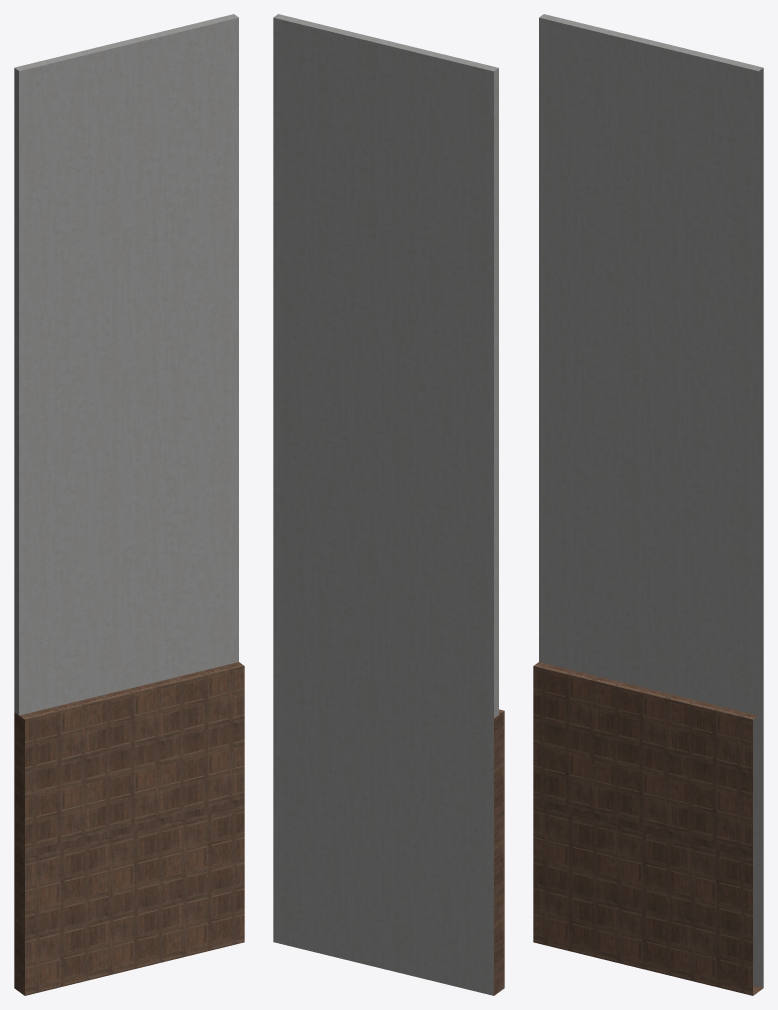
File: 10x2.5Wall.fbx
3 views of the same model, side by side, from view 1: azimuth 30°, elevation 25°; view 2: azimuth 150°, elevation 25°; view 3: azimuth 330°, elevation 25° (orthographic).
Visible parts, largest first — view 1: Wall10x10; view 2: Wall10x10; view 3: Wall10x10.
Boxes of the visible parts, left/top/right/bottom form: Wall10x10: left=14, top=14, right=244, bottom=995; Wall10x10: left=273, top=14, right=504, bottom=995; Wall10x10: left=533, top=14, right=763, bottom=995.
Size of the model in its own units: 250 by 1000 by 21.
Materials: 1 (1 with a texture image).
